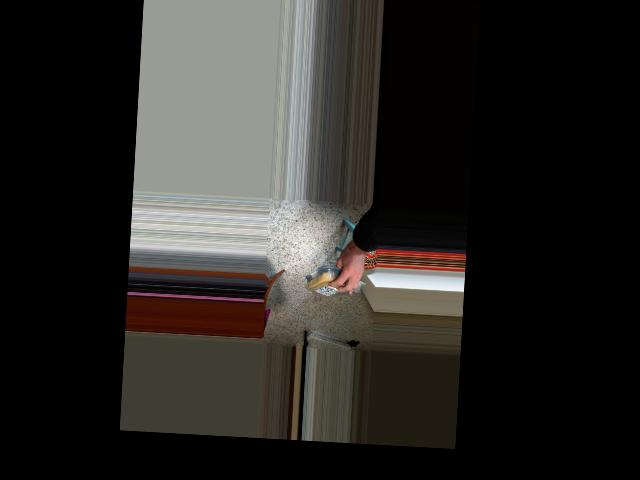cheese: (305, 268, 357, 297)
